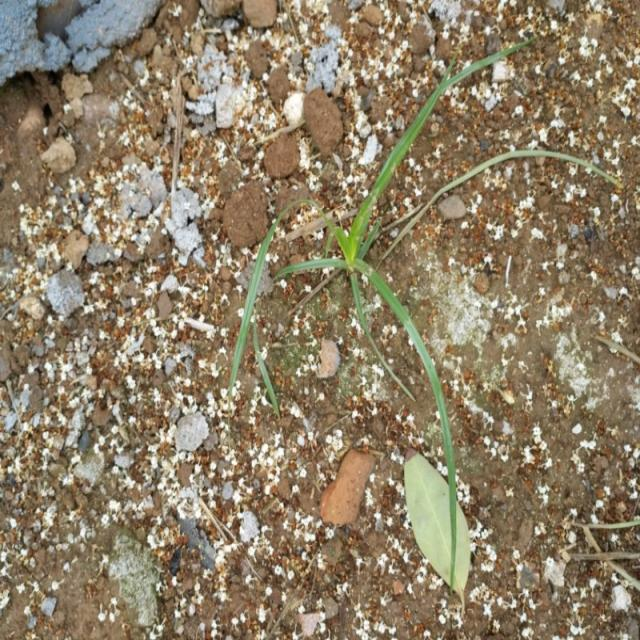sedge: (176, 70, 538, 538)
